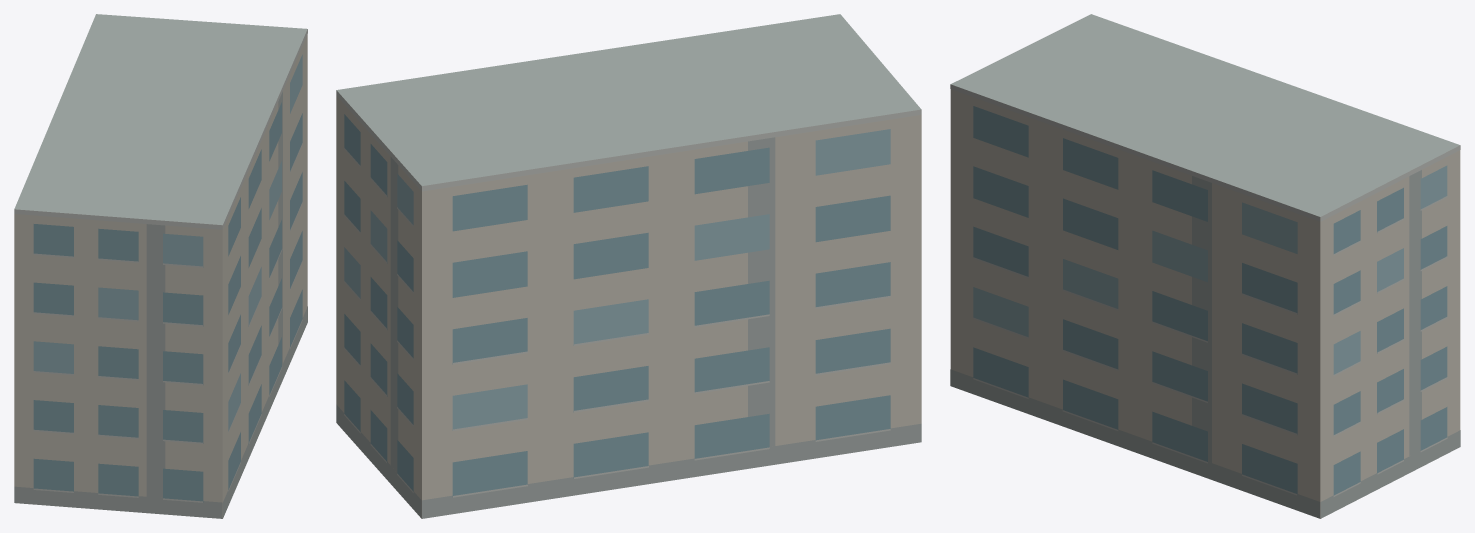
Rendered from survey-upis-33046301.glb.
3 views of the same model, side by side, from view 1: azimuth 30°, elevation 25°; view 2: azimuth 150°, elevation 25°; view 3: azimuth 270°, elevation 25° (orthographic). The views are drawn at different scales.
Parts seen in each view (by area): view 1: survey-upis-33046301.tmp; view 2: survey-upis-33046301.tmp; view 3: survey-upis-33046301.tmp.
Boxes of the visible parts, box(x1,y1,x2,y2) form: survey-upis-33046301.tmp: box(14, 14, 307, 518); survey-upis-33046301.tmp: box(336, 14, 921, 518); survey-upis-33046301.tmp: box(950, 14, 1460, 518).
Size of the model in its own units: 22.09 by 15.3 by 23.43.
